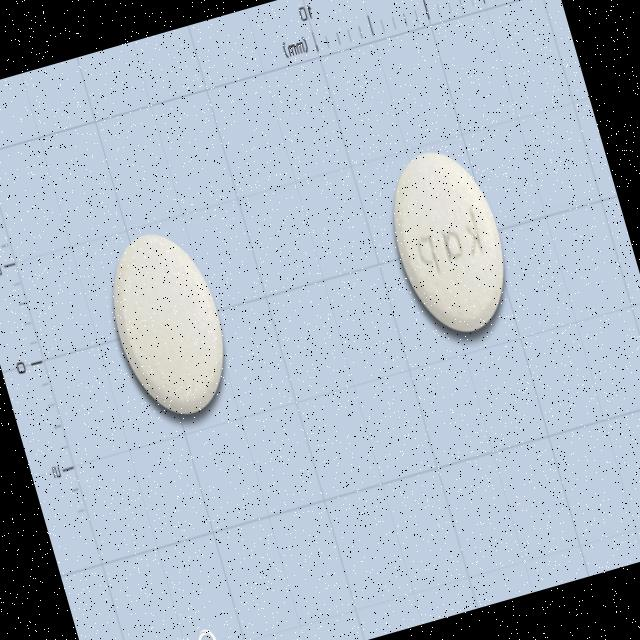Lebofacin: (372, 137, 523, 346), (92, 219, 242, 426)
